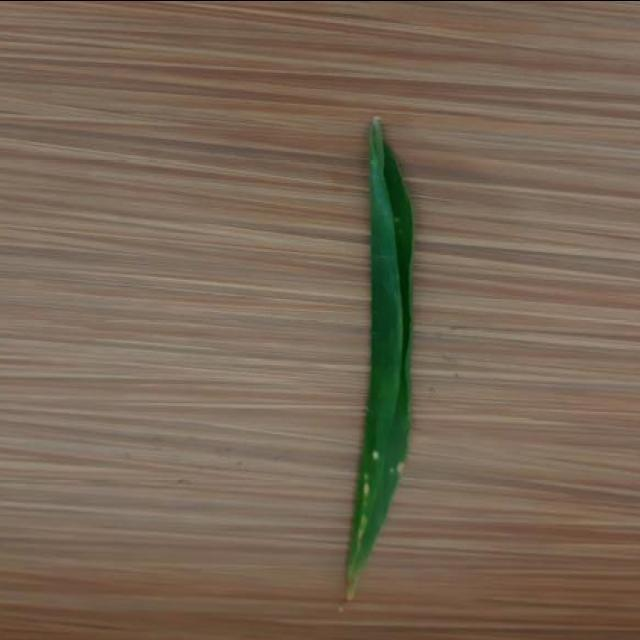leaf: (343, 114, 414, 601)
